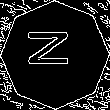N_E: (29, 34, 81, 76)
